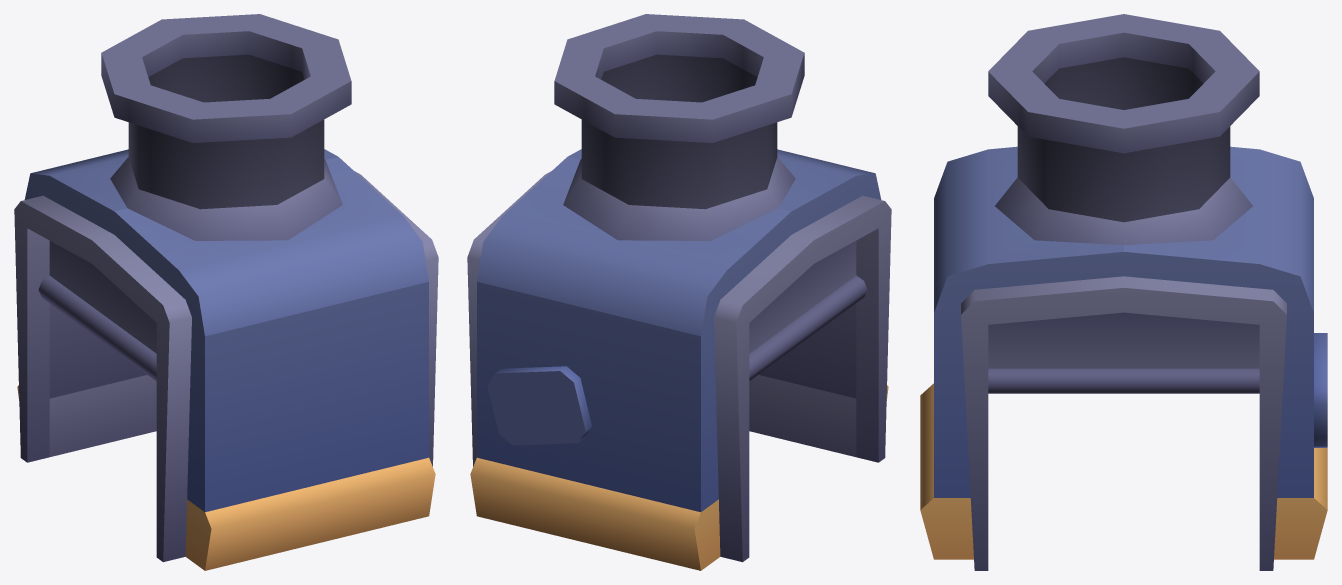
File: kenney-factory-machine-connection-pipe.glb
3 views of the same model, side by side, from view 1: azimuth 30°, elevation 25°; view 2: azimuth 150°, elevation 25°; view 3: azimuth 270°, elevation 25° (orthographic). The views are drawn at different scales.
Visible parts, largest first — view 1: machine-connection-pipe; view 2: machine-connection-pipe; view 3: machine-connection-pipe.
Boxes of the visible parts, x1=… form: machine-connection-pipe: x1=14, y1=14, x2=438, y2=570; machine-connection-pipe: x1=467, y1=14, x2=891, y2=570; machine-connection-pipe: x1=920, y1=14, x2=1327, y2=570.
Size of the model in its own units: 1.8 by 2.63 by 2.25.
1 material, 1 textured.
